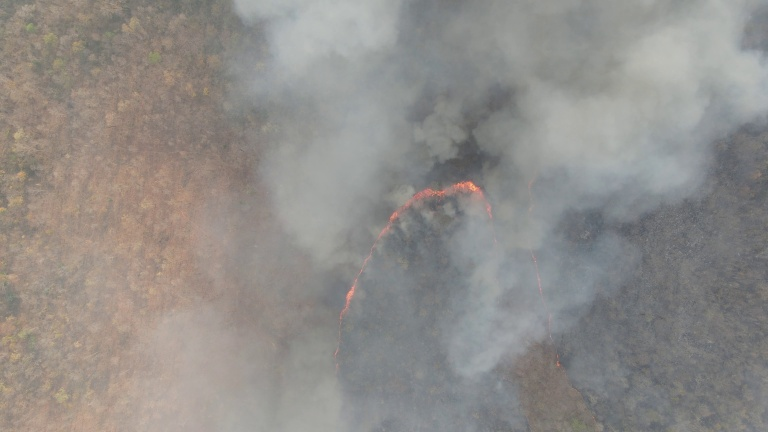fire: (334, 175, 499, 378), (522, 243, 574, 380), (526, 174, 540, 225)
smoke: (456, 1, 752, 363), (261, 1, 417, 249), (159, 303, 361, 426)
